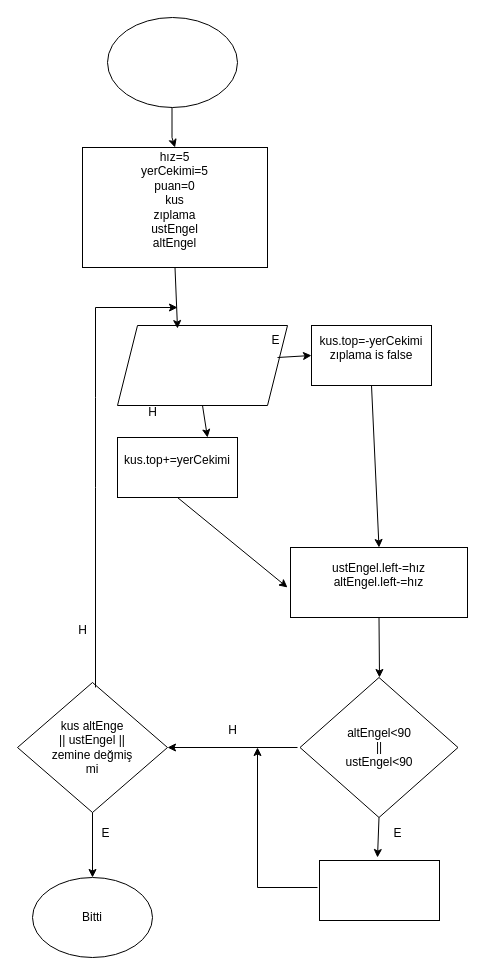
The diagram is 485 pixels wide and 975 high, and some of its shapes have lost their labels. Each missing label, with the box of its shape:
BAŞLA: (106, 16, 238, 108)
puan++: (318, 860, 440, 920)
Zıplama is true: (116, 324, 288, 406)
